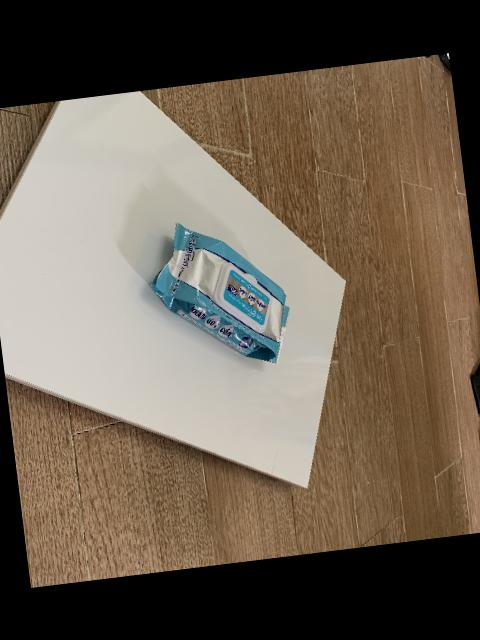Let-green_alcohol_wipes: (149, 222, 288, 363)
